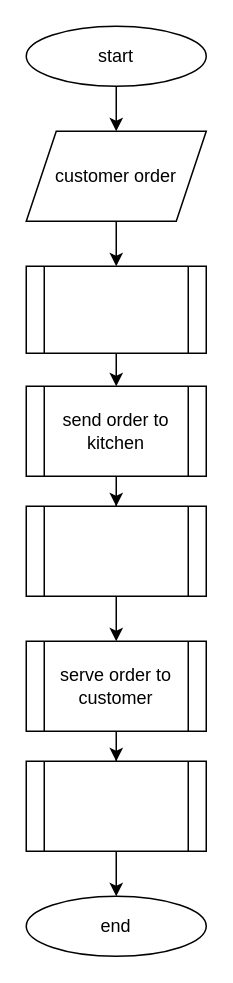
This 233x983 diagram has some shape labels left out. The centre of each missing label's shape, as x and y in pixels:
"handle payment" belongs at (x=115, y=805).
"order confimation" belongs at (x=115, y=309).
"prepare order" belongs at (x=115, y=550).
